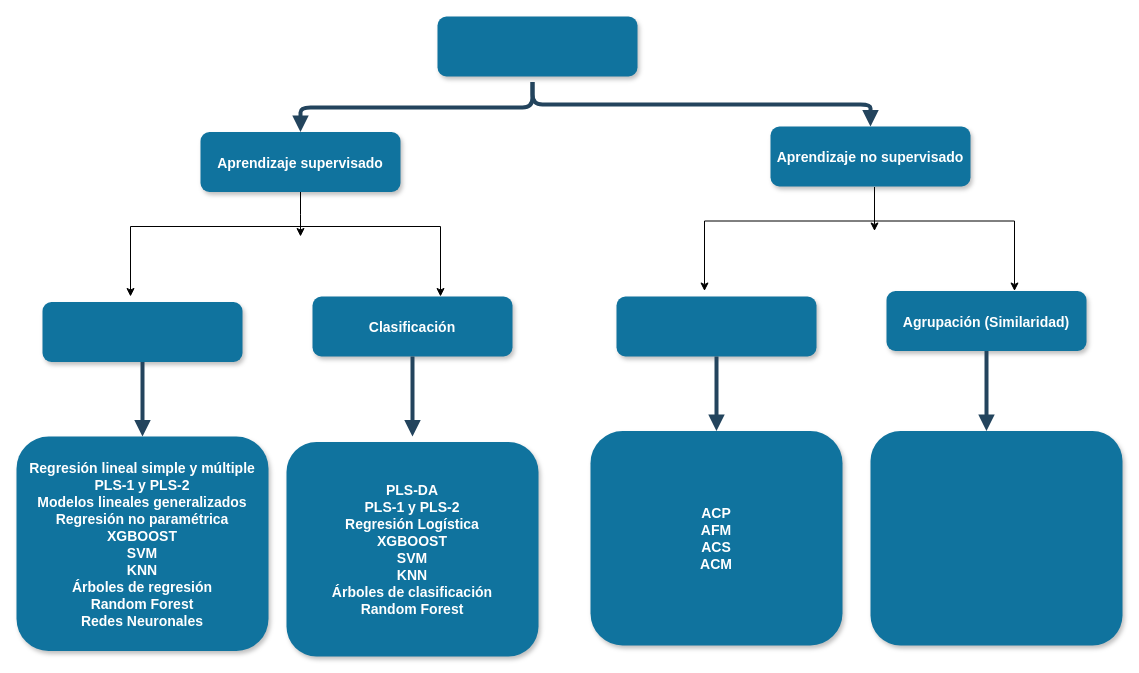
The diagram is 1139 pixels wide and 673 high, and some of its shapes have lost their labels. The shapes that lost their labels are listed below. From the top down, each one's centre as x and y in pixels, then its label:
(x=538, y=47): Minería de datos
(x=143, y=333): Predicción
(x=717, y=327): Reducción
(x=997, y=539): ACP-Cluster AFM- Cluster ACS- Cluster ACM - Cluster
